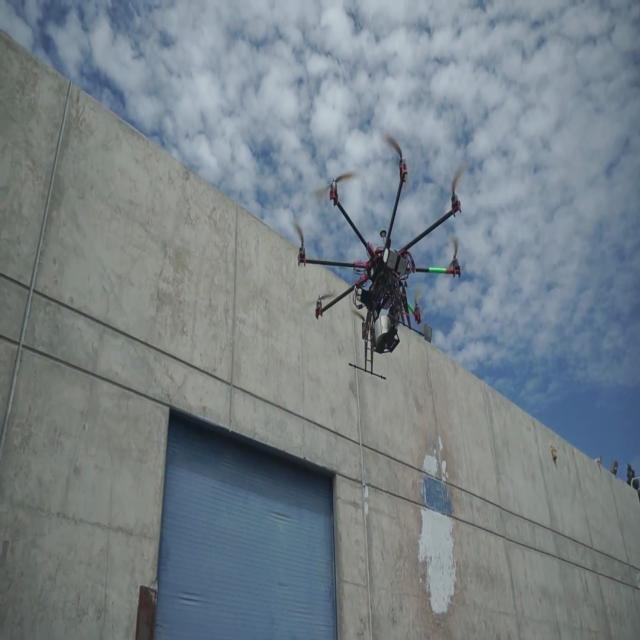drone: (297, 145, 468, 381)
